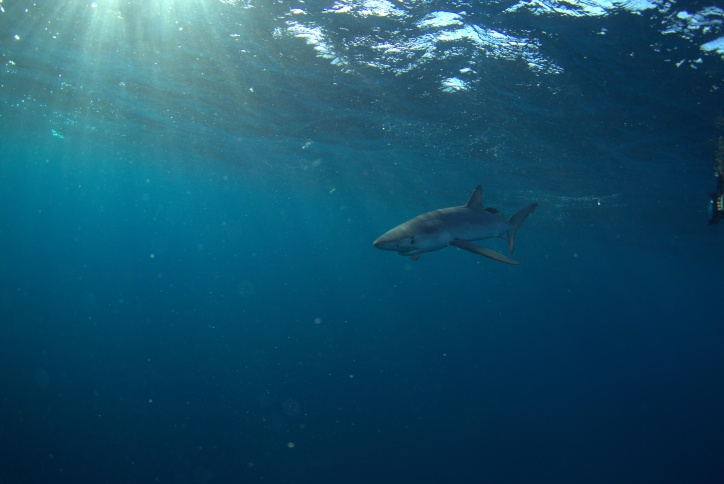Azul: (367, 179, 540, 284)
